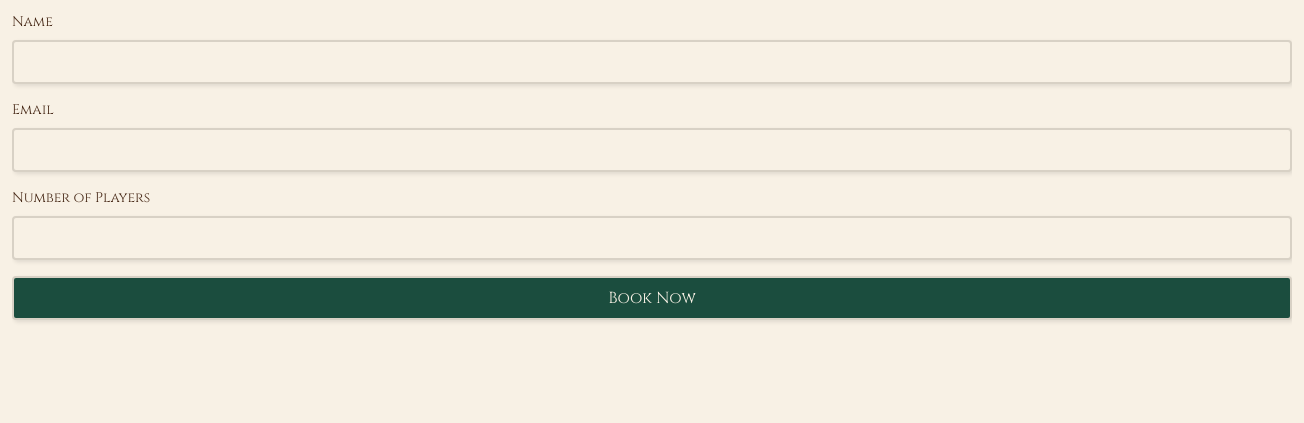
Scenario: BookingForm › shows validation error for invalid number of players
Type "0" into the number field labelled "Number of Players" at (652, 238), box 12,216 -> 1292,260
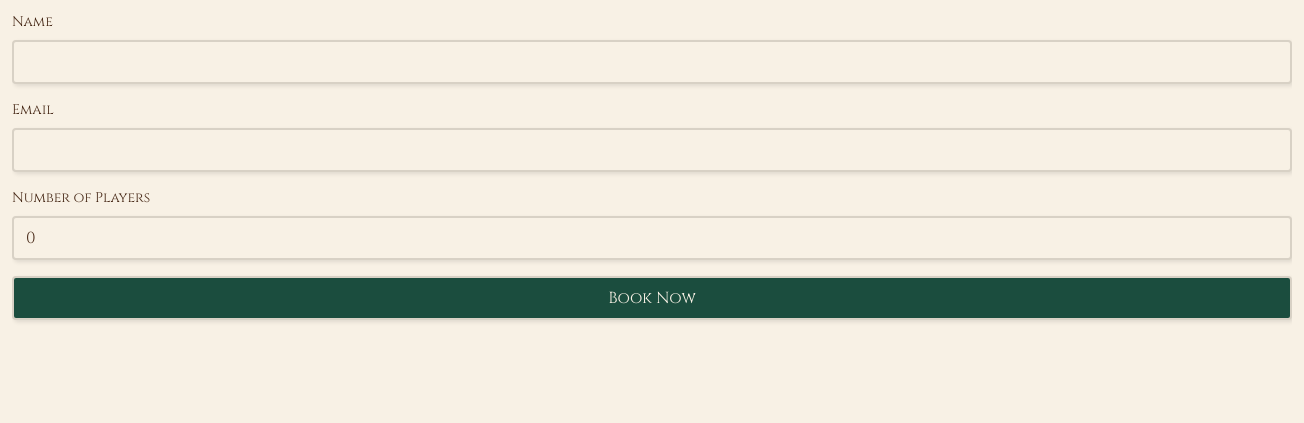
Click the button "Book Now" at (652, 298), box 12,276 -> 1292,320
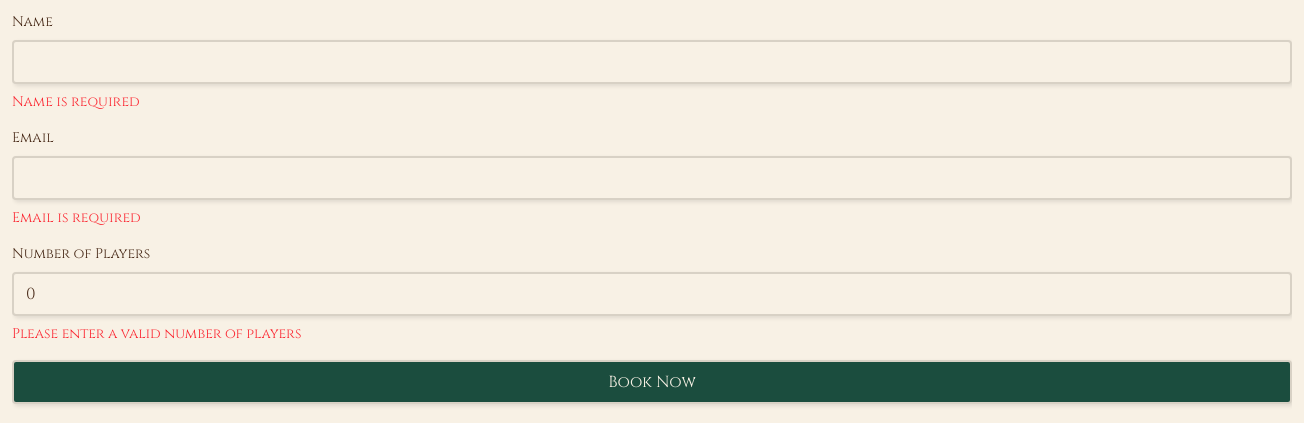
Expected: the text "Please enter a valid number of players" is shown, 12,324 -> 301,343
